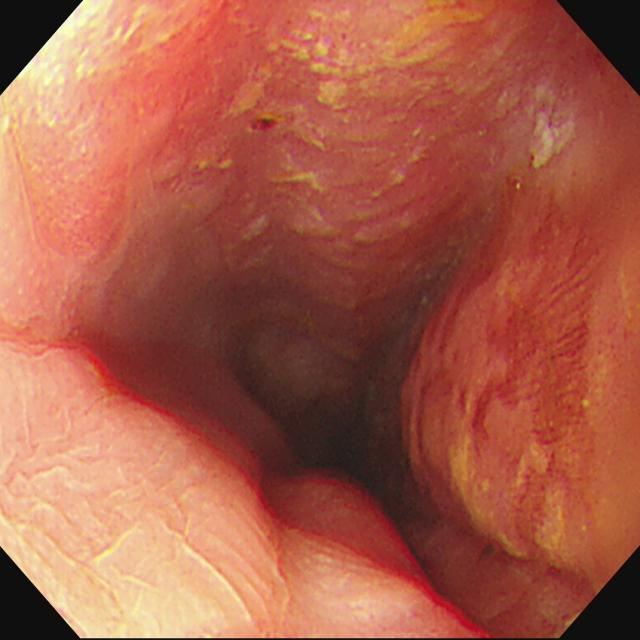A: (382, 253, 576, 560)
D: (247, 118, 279, 135)
E: (307, 404, 368, 468)
J: (222, 2, 486, 150), (494, 82, 578, 171)
